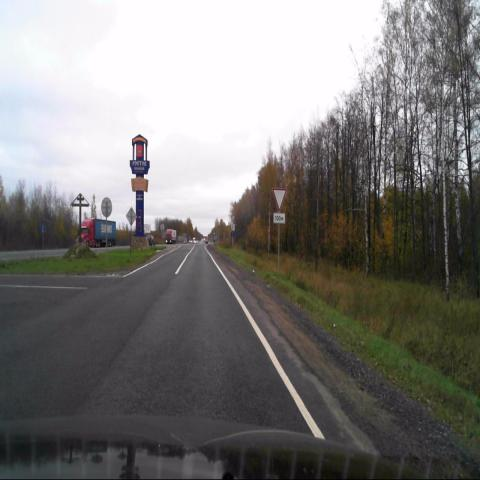2_4: (272, 188, 286, 211)
8_1_1: (273, 213, 285, 223)
